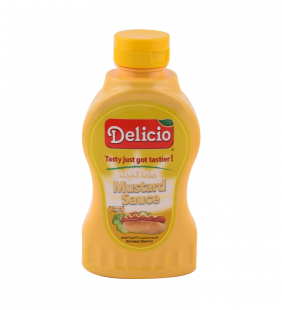Promotion: (81, 29, 201, 280)
